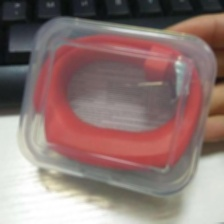plastic_box: (9, 9, 222, 204)
